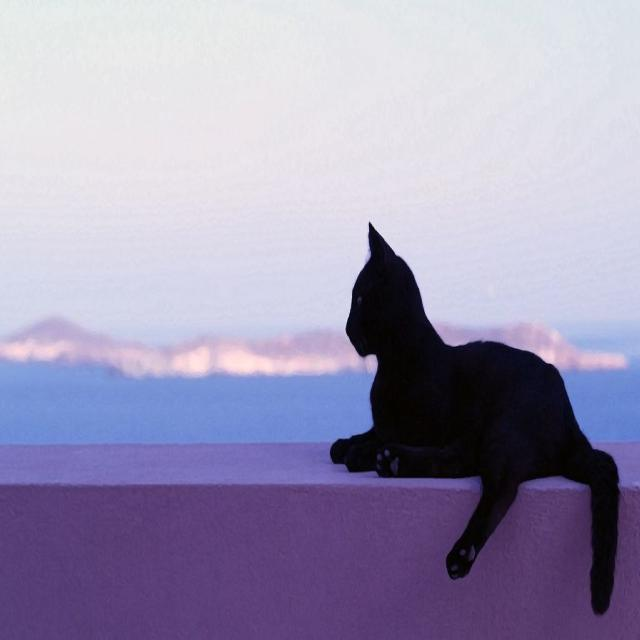Cat: (328, 223, 620, 616)
